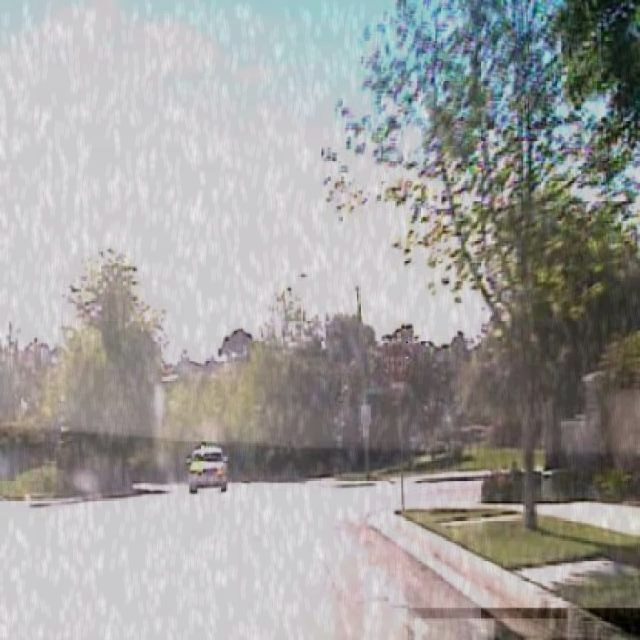stop: (380, 342, 412, 384)
